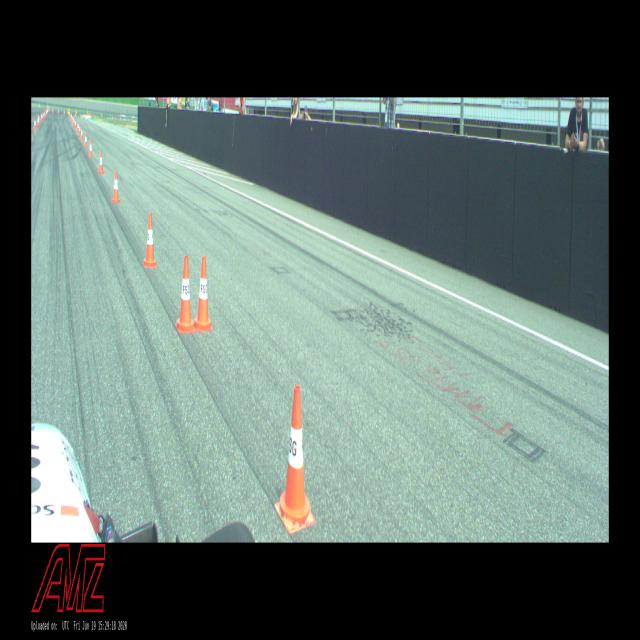orange_cone: (275, 386, 315, 534), (175, 256, 196, 333), (194, 256, 213, 332), (142, 213, 157, 268), (112, 170, 120, 202), (98, 150, 104, 174), (88, 139, 93, 158), (84, 133, 88, 148), (80, 127, 84, 140), (78, 124, 81, 136), (34, 118, 36, 130), (37, 115, 39, 126), (77, 122, 79, 131), (73, 117, 75, 126), (31, 125, 33, 134), (38, 114, 40, 123), (74, 120, 76, 128), (41, 113, 42, 120)
